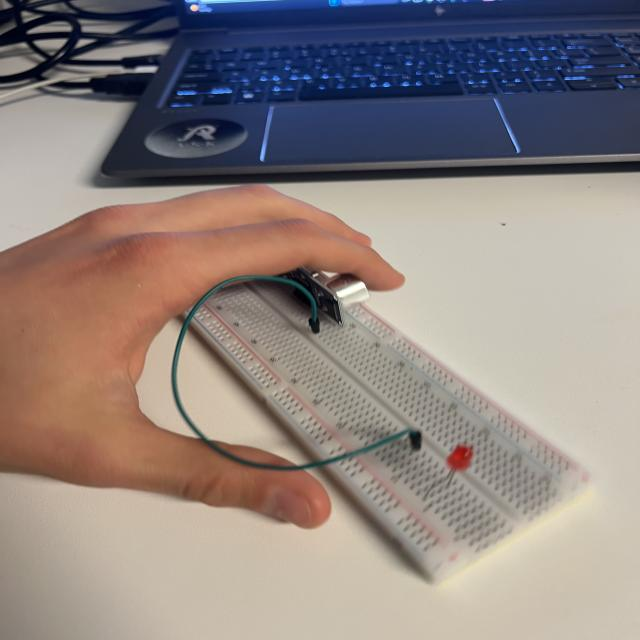BreadBoard: (189, 313, 605, 579)
REDLed: (435, 444, 484, 491)
